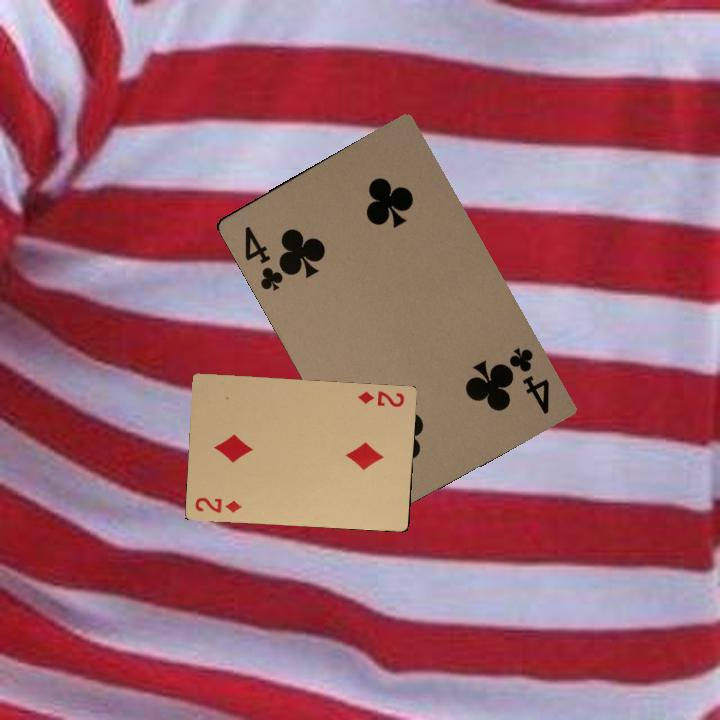2d: (354, 387, 407, 410), (191, 493, 244, 515)
4c: (502, 343, 552, 417), (240, 222, 291, 293)
